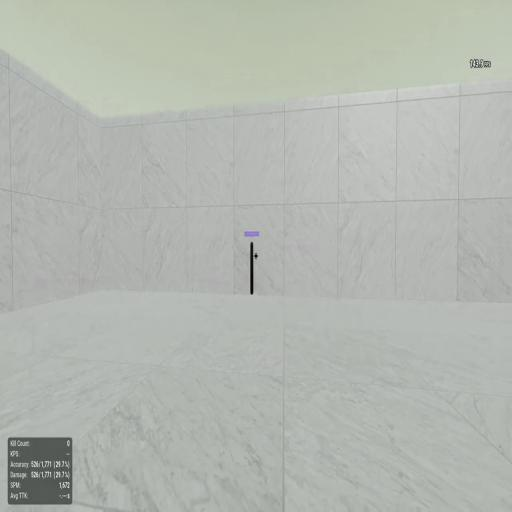Crosshair: (253, 252, 259, 260)
Target: (250, 243, 254, 293)
